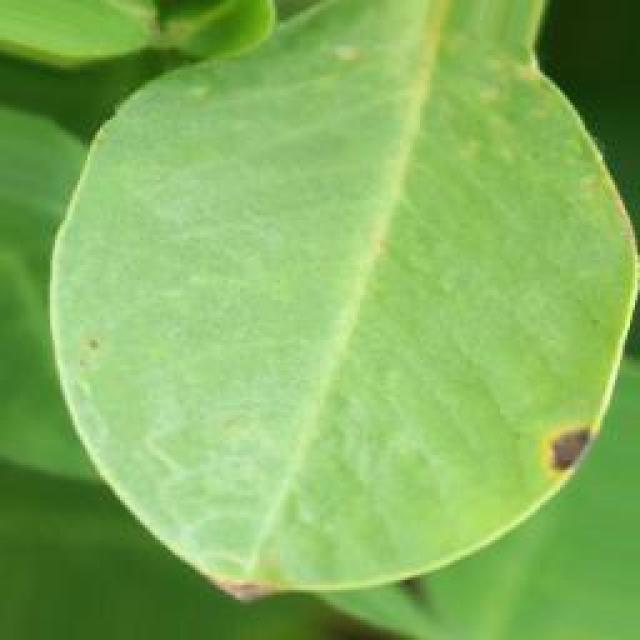Early_leaf_spot: (499, 380, 605, 513), (189, 516, 291, 612), (52, 293, 125, 393)
